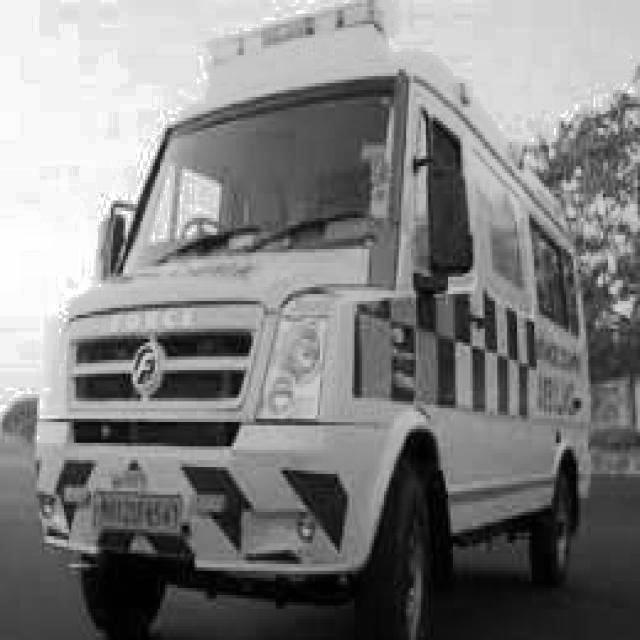LCV: (38, 1, 473, 568)
